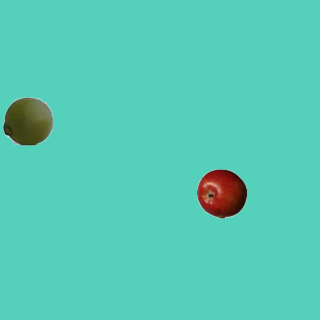Apple Braeburn: (196, 168, 246, 218)
Grape White 4: (2, 95, 52, 145)
